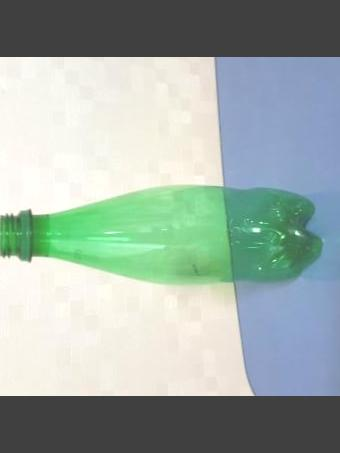bottle: (0, 183, 318, 282)
